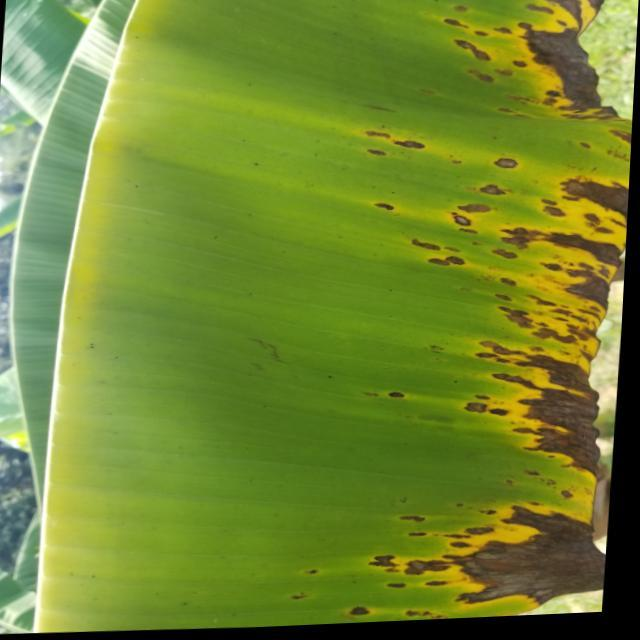Early_rust: (233, 0, 640, 640)
